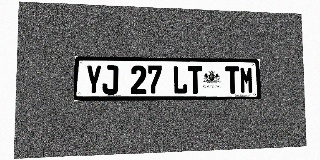2: (131, 65, 146, 94)
7: (147, 65, 162, 94)
J: (102, 65, 118, 95)
L: (173, 66, 187, 94)
M: (239, 66, 254, 94)
T: (225, 66, 240, 94), (188, 66, 202, 94)
Y: (85, 65, 102, 95)
